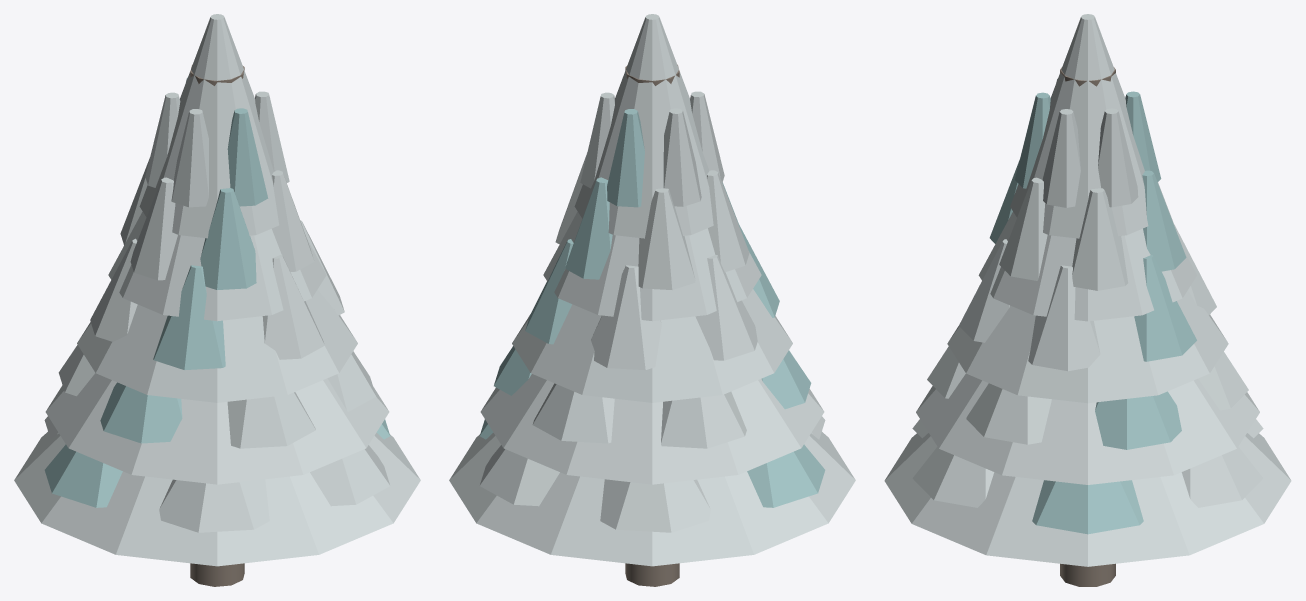
Rendered from white-pine.glb.
The picture shows the model from 3 angles, left to right: view 1: azimuth 30°, elevation 25°; view 2: azimuth 150°, elevation 25°; view 3: azimuth 270°, elevation 25°; orthographic projection.
Visible parts, largest first — view 1: Frosted crown, Frosted crown.001, Frosted crown.002, Frosted crown.004, Frosted crown.003, Snow branch.004, Snow branch.015, Snow branch.021, Snow branch.010, Snow branch.009, Snow branch.016, Snow branch.003 (+13 smaller); view 2: Frosted crown, Frosted crown.001, Frosted crown.002, Frosted crown.004, Frosted crown.003, Snow branch.002, Snow branch.013, Snow branch.019, Snow branch.008, Snow branch.007, Snow branch.014, Snow branch.003 (+13 smaller); view 3: Frosted crown, Frosted crown.001, Frosted crown.002, Frosted crown.004, Frosted crown.003, Snow branch, Snow branch.017, Snow branch.023, Snow branch.006, Snow branch.011, Snow branch.012, Snow branch.001 (+13 smaller).
Part boxes in pixels (box(x1,y1,x2,y2)): Frosted crown: box(14, 432, 420, 566); Frosted crown.001: box(45, 373, 389, 484); Frosted crown.002: box(77, 289, 357, 402); Frosted crown.004: box(139, 14, 279, 238); Frosted crown.003: box(108, 211, 326, 321); Snow branch.004: box(159, 479, 269, 532); Snow branch.015: box(153, 265, 225, 370); Snow branch.021: box(200, 188, 256, 289); Snow branch.010: box(227, 392, 315, 448); Snow branch.009: box(100, 382, 182, 443); Snow branch.016: box(262, 254, 324, 359); Snow branch.003: box(44, 444, 122, 507); Frosted crown: box(449, 432, 855, 566); Frosted crown.001: box(480, 374, 824, 484); Frosted crown.002: box(512, 289, 792, 402); Frosted crown.004: box(574, 14, 713, 238); Frosted crown.003: box(543, 211, 761, 321); Snow branch.002: box(600, 479, 710, 532); Snow branch.013: box(591, 265, 661, 370); Snow branch.019: box(638, 188, 695, 289); Snow branch.008: box(661, 391, 746, 448); Snow branch.007: box(532, 383, 614, 443); Snow branch.014: box(695, 255, 757, 360); Snow branch.003: box(747, 444, 825, 507); Frosted crown: box(884, 433, 1291, 566); Frosted crown.001: box(916, 373, 1259, 484); Frosted crown.002: box(947, 290, 1228, 403); Frosted crown.004: box(1010, 14, 1148, 238); Frosted crown.003: box(978, 212, 1197, 321); Snow branch: box(1032, 480, 1143, 534); Snow branch.017: box(1028, 265, 1100, 371); Snow branch.023: box(1072, 188, 1128, 290); Snow branch.006: box(1095, 391, 1181, 449); Snow branch.011: box(966, 383, 1051, 444); Snow branch.012: box(1134, 255, 1196, 361); Snow branch.001: box(1181, 447, 1263, 507).
Bounding box in the file's own units: 3.5 × 5.3 × 3.5.
